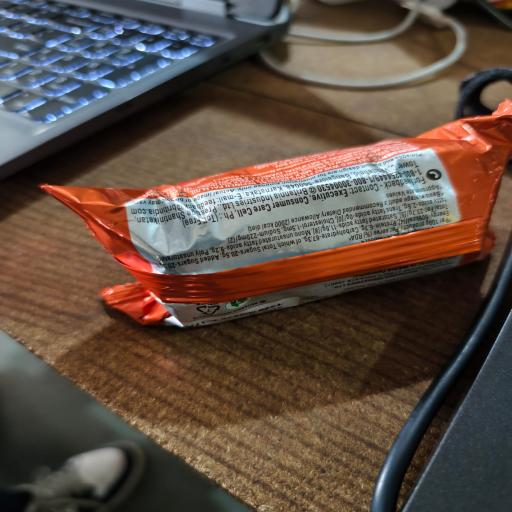goodday: (43, 100, 512, 326)
